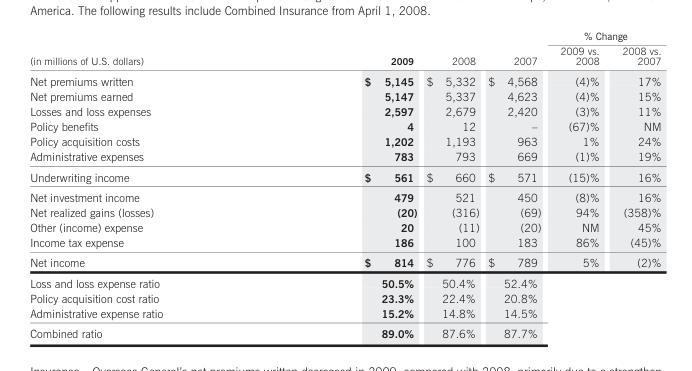table: (29, 29, 660, 339)
table column: (29, 29, 262, 339), (262, 29, 421, 339), (483, 29, 550, 339), (421, 29, 483, 339), (550, 29, 610, 339), (610, 29, 660, 339)
table column header: (29, 29, 660, 70)
table row: (29, 43, 660, 70), (29, 166, 660, 186), (29, 252, 660, 272), (29, 70, 660, 88), (29, 148, 660, 166), (29, 186, 660, 204), (29, 234, 660, 252), (29, 272, 660, 290), (29, 305, 660, 322), (29, 322, 660, 339), (29, 88, 660, 103), (29, 103, 660, 118), (29, 118, 660, 133), (29, 133, 660, 148), (29, 204, 660, 219), (29, 219, 660, 234), (29, 290, 660, 305), (29, 29, 660, 43)
table spanning cell: (29, 29, 262, 70), (262, 29, 421, 70), (483, 29, 550, 70), (421, 29, 483, 70), (550, 29, 660, 43)
